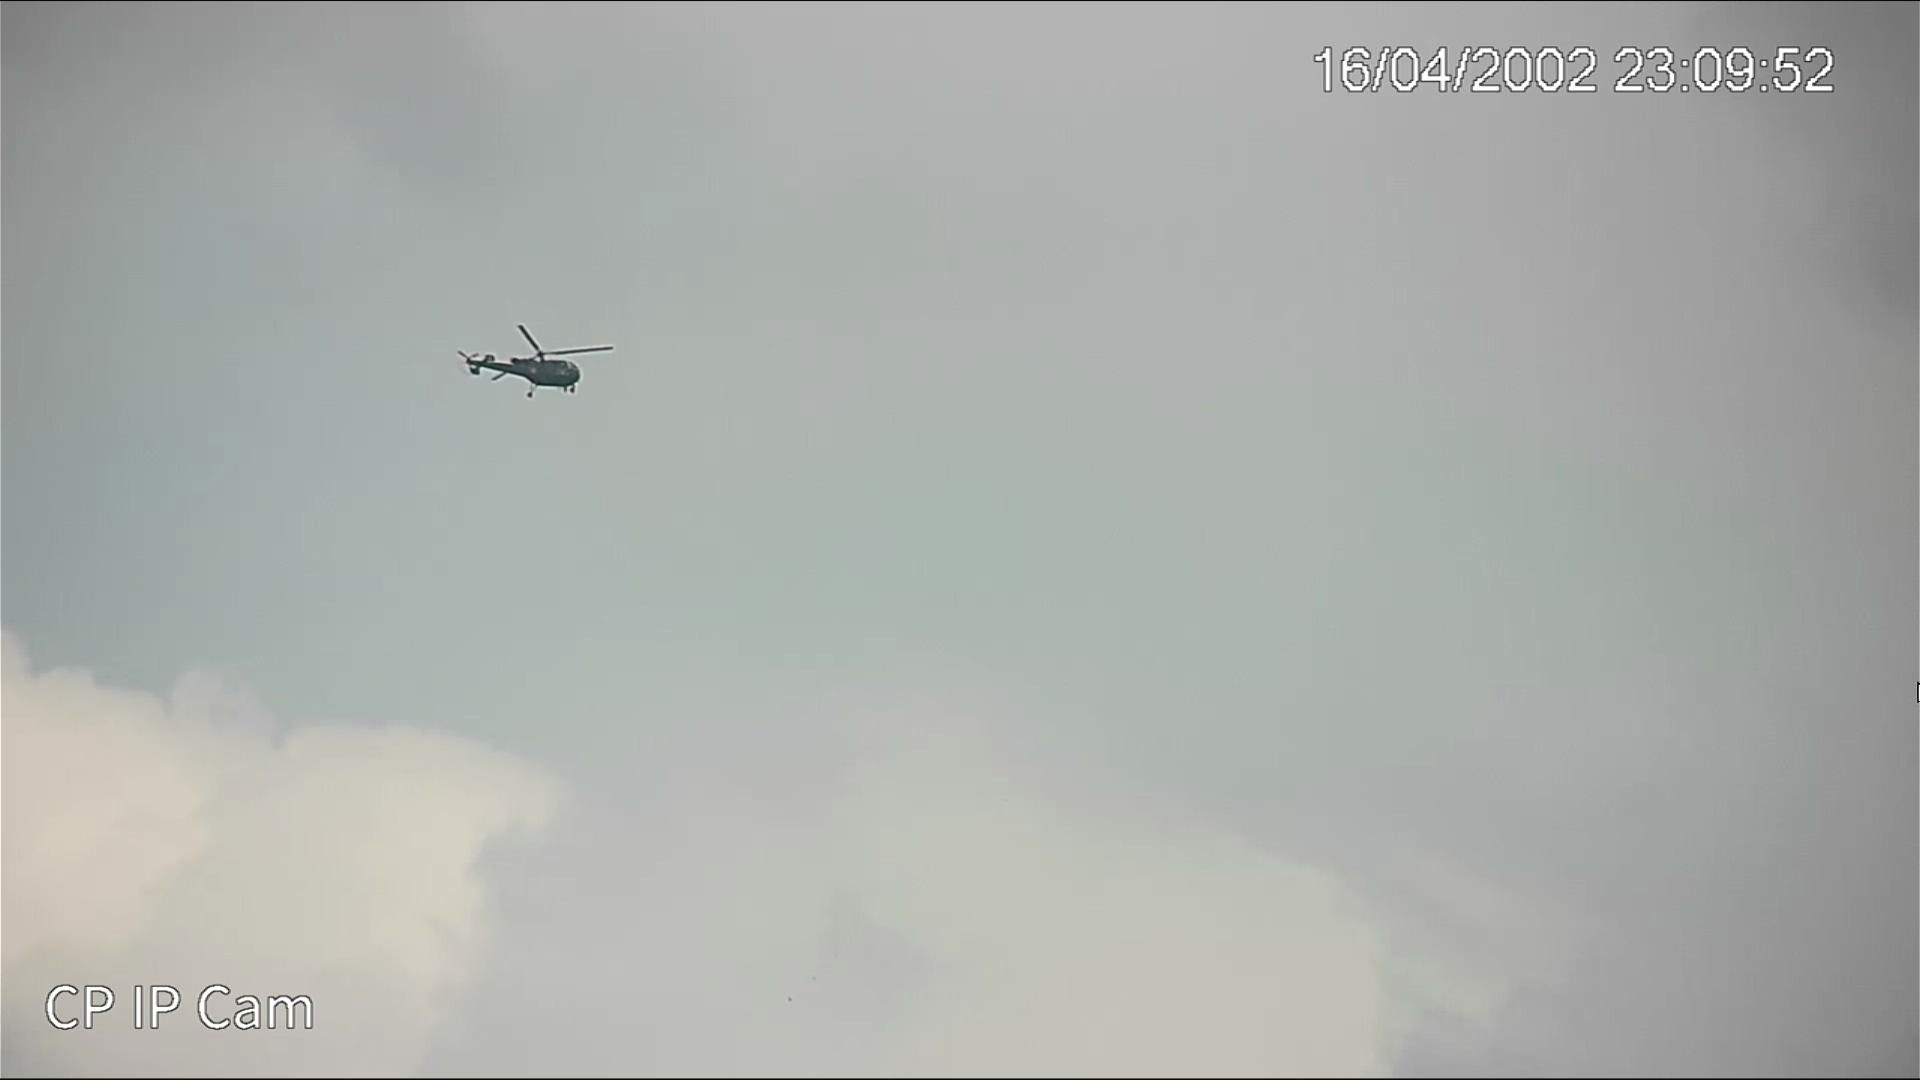SU_30: (455, 340, 585, 398)
